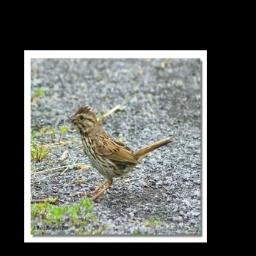Sparrow: (62, 104, 175, 203)
